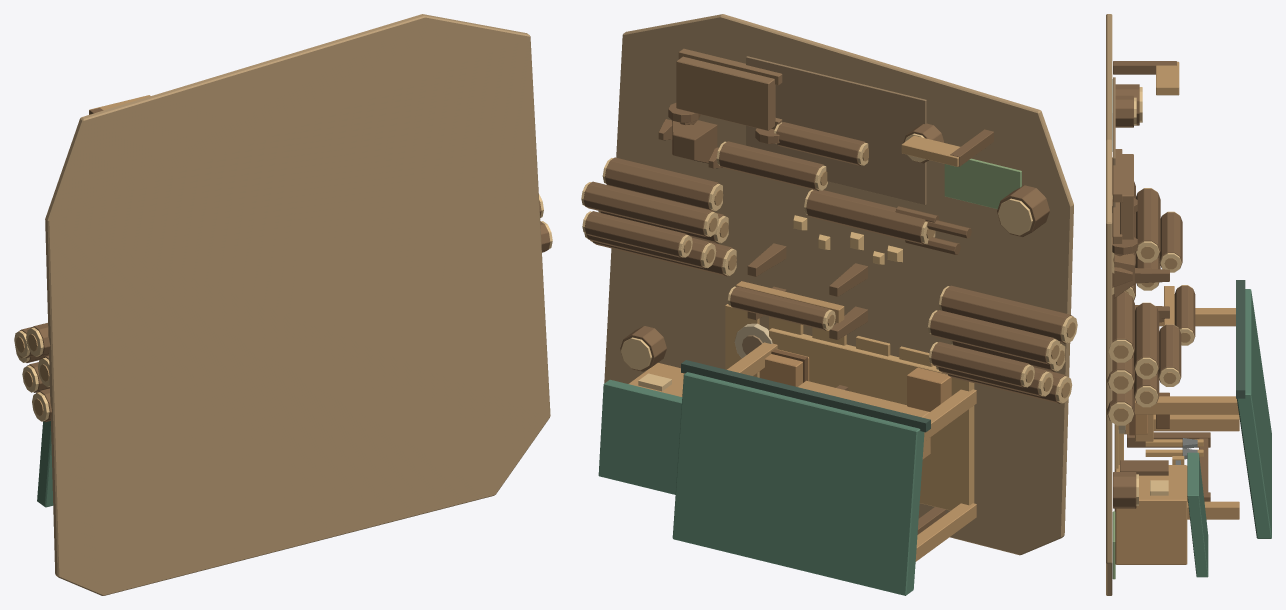
The model's file is loggingcamp.fbx.
3 views of the same model, side by side, from view 1: azimuth 30°, elevation 25°; view 2: azimuth 150°, elevation 25°; view 3: azimuth 270°, elevation 25° (orthographic). The views are drawn at different scales.
Parts seen in each view (by area): view 1: GroundBase, MainShed_Roof; view 2: GroundBase, MainShed_Roof, GroundPatch_TruckAccess_WornDirt, MainShed, ForemanHut_Roof, LogCart, LogStack_Right_Log_05, LooseLog_01, LogStack_Left_Log_03, LogStack_Left_Log_05, LogStack_Right_Log_03, MainShed_Roof_FrontTrim (+29 smaller); view 3: ForemanHut, MainShed_Roof, GroundBase, ForemanHut_Roof, MainShed_Post_04, LogStack_Right_Log_05, MainShed_Post_01, LogStack_Left_Log_05, MainShed_Roof_FrontTrim, LogStack_Right_Log_03, LogCart, LogStack_Right_Log_06 (+37 smaller).
Part boxes in pixels (x1=…): GroundBase: x1=45, y1=14, x2=550, y2=595; MainShed_Roof: x1=37, y1=421, x2=53, y2=507; GroundBase: x1=604, y1=14, x2=1073, y2=555; MainShed_Roof: x1=672, y1=372, x2=924, y2=595; GroundPatch_TruckAccess_WornDirt: x1=746, y1=56, x2=926, y2=204; MainShed: x1=769, y1=328, x2=974, y2=510; ForemanHut_Roof: x1=598, y1=379, x2=682, y2=494; LogCart: x1=676, y1=56, x2=775, y2=130; LogStack_Right_Log_05: x1=583, y1=181, x2=714, y2=237; LooseLog_01: x1=806, y1=190, x2=925, y2=244; LogStack_Left_Log_03: x1=941, y1=285, x2=1073, y2=343; LogStack_Left_Log_05: x1=930, y1=310, x2=1056, y2=364; LogStack_Right_Log_03: x1=605, y1=157, x2=719, y2=211; MainShed_Roof_FrontTrim: x1=681, y1=360, x2=930, y2=432; ForemanHut: x1=1115, y1=465, x2=1187, y2=564; MainShed_Roof: x1=1237, y1=289, x2=1271, y2=538; GroundBase: x1=1106, y1=14, x2=1112, y2=595; ForemanHut_Roof: x1=1187, y1=452, x2=1208, y2=577; MainShed_Post_04: x1=1134, y1=396, x2=1238, y2=414; LogStack_Right_Log_05: x1=1134, y1=303, x2=1159, y2=374; MainShed_Post_01: x1=1153, y1=414, x2=1239, y2=431; LogStack_Left_Log_05: x1=1135, y1=188, x2=1160, y2=257; MainShed_Roof_FrontTrim: x1=1236, y1=280, x2=1245, y2=398; LogStack_Right_Log_03: x1=1112, y1=292, x2=1134, y2=357; LogCart: x1=1120, y1=154, x2=1133, y2=239; LogStack_Right_Log_06: x1=1158, y1=324, x2=1181, y2=382.
Size of the model in its own units: 439 by 410 by 143.
